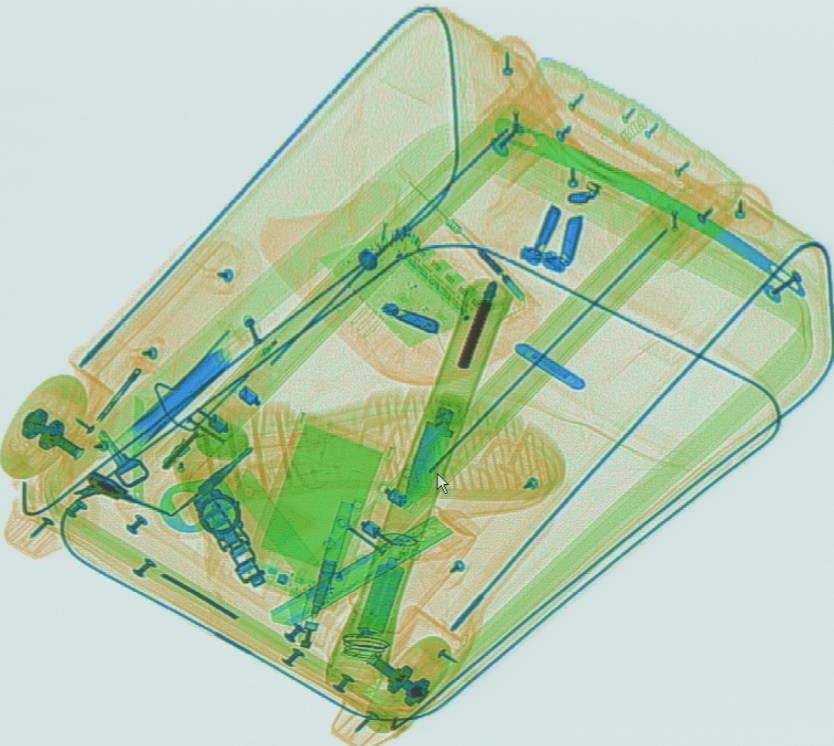knife: (264, 505, 477, 630), (233, 468, 322, 589), (400, 404, 456, 509), (132, 393, 146, 507)
